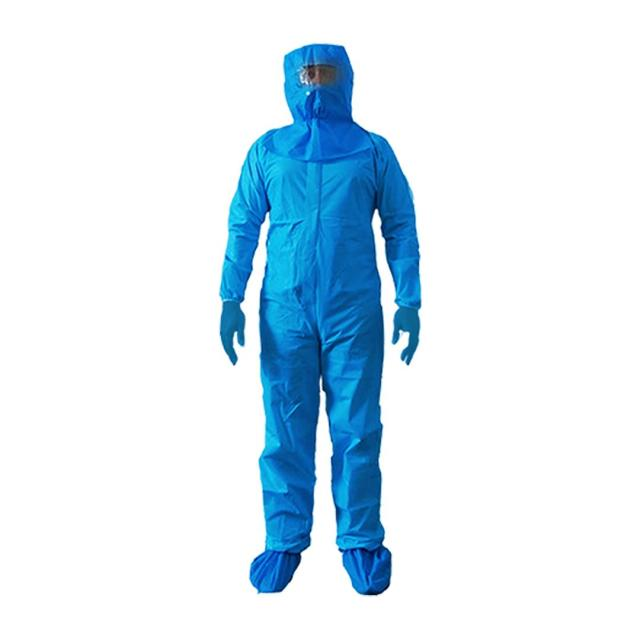Coverall: (150, 2, 492, 629)
Gloves: (374, 291, 447, 388), (200, 305, 278, 350)
Mask: (286, 83, 355, 129)
